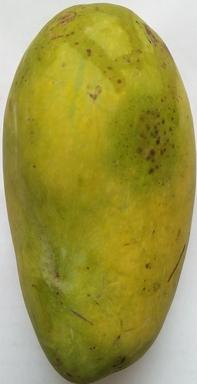PartiallyRipe: (0, 1, 197, 384)
